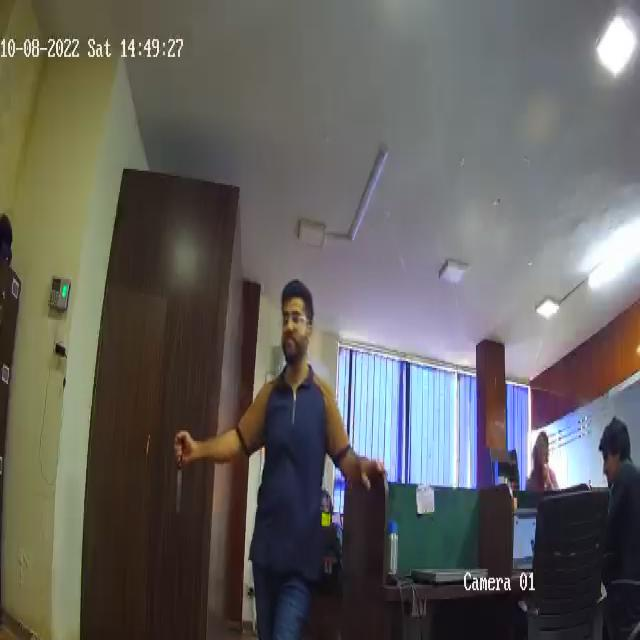weapon: (170, 428, 187, 521)
